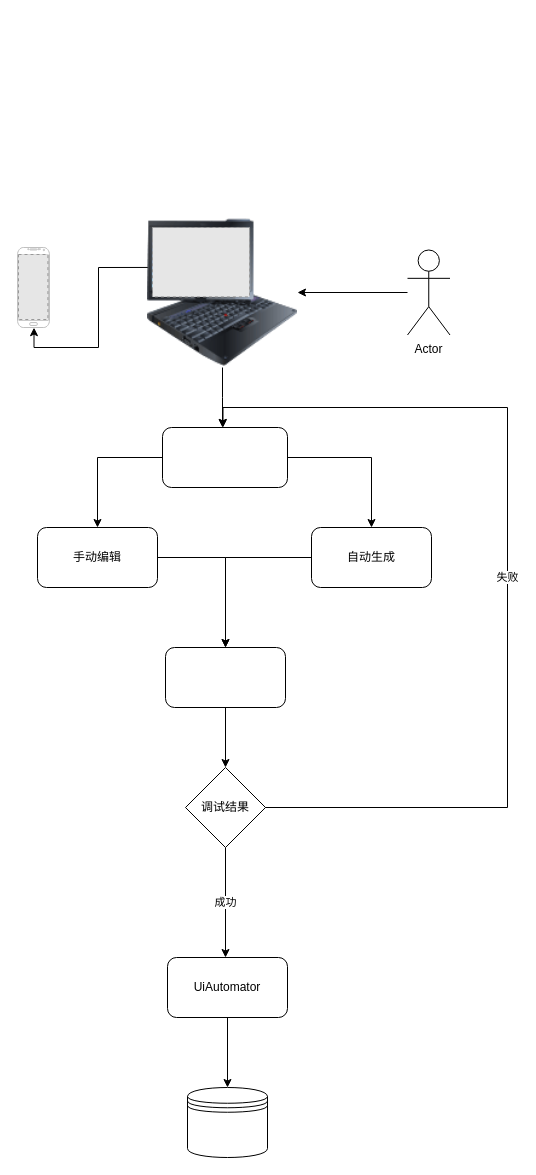
The diagram is 536 pixels wide and 1175 high, and some of its shapes have lost their labels. Grey dashed boxes stand in for pictures. The shapes that lost their labels are listed below. From the top down, each one's centre as x and y in pixels, then its label:
the point at 225,457: 生成脚本
the point at 225,677: 本地调试
the point at 227,1122: 报告
